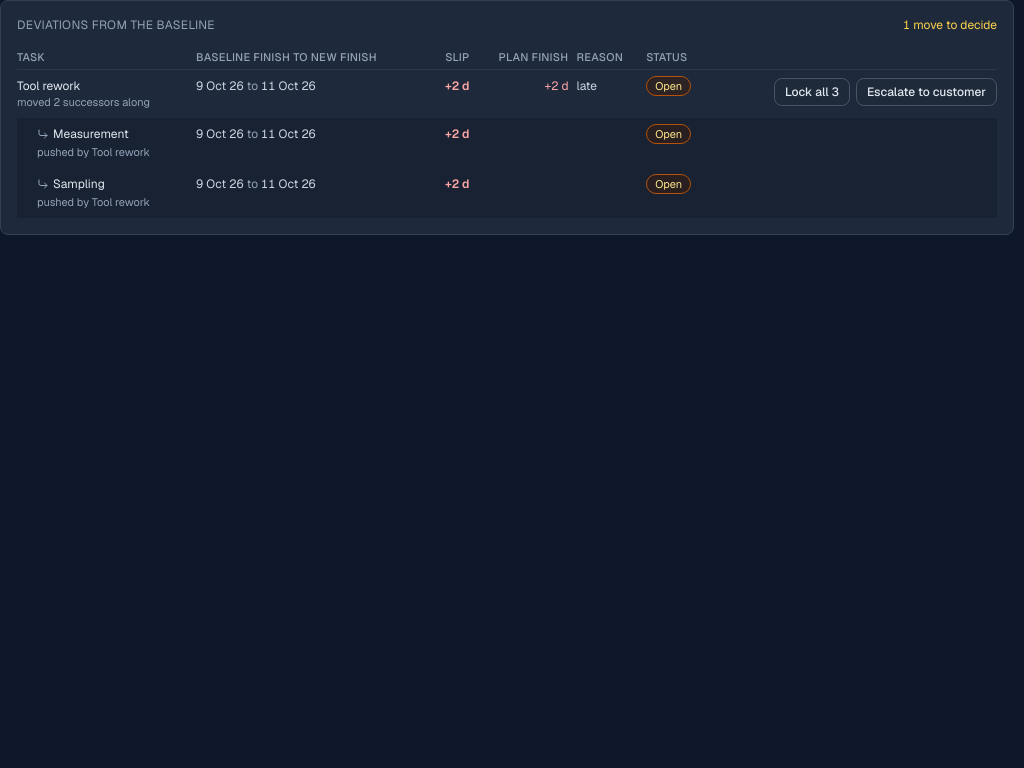
Test case: DeviationsPanel grouped by cause (G18) › escalating the move locks what it pushed with a note, and escalates once
The image size is (1024, 768).
Click the button with test id "deviation-escalate-20" at (926, 92), box left=856, top=78, right=997, bottom=106
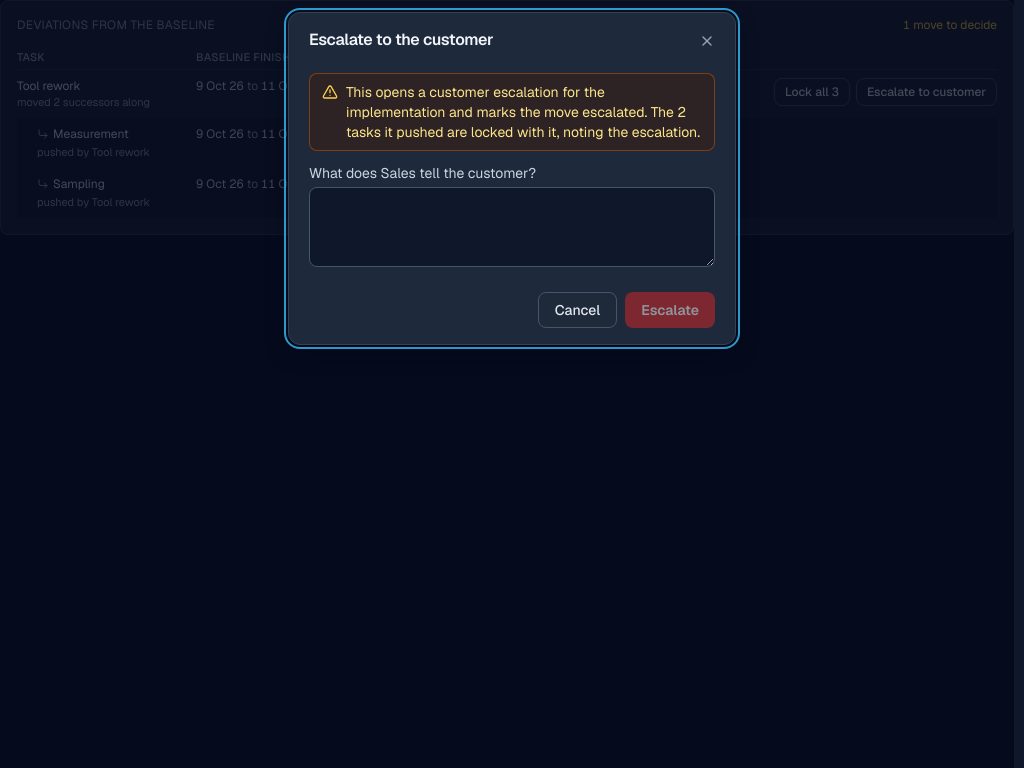
Type "SOP moves a week" into the text box at (512, 227), box left=309, top=187, right=715, bottom=267
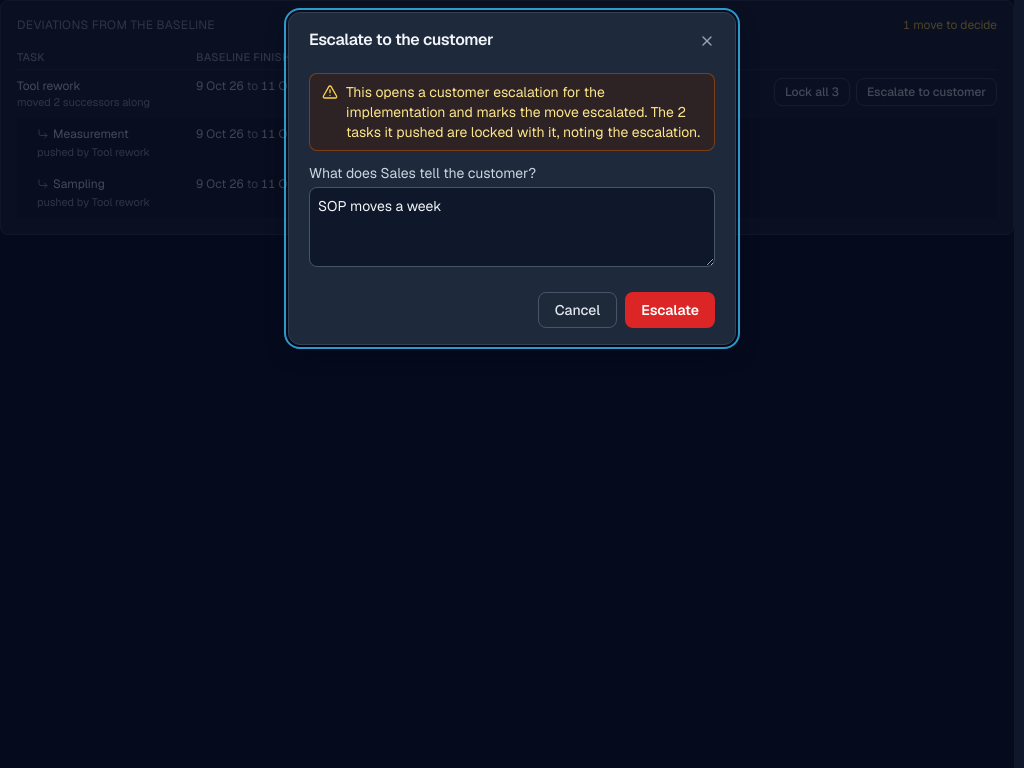
Click the button "Escalate" at (670, 310), box left=625, top=292, right=715, bottom=328
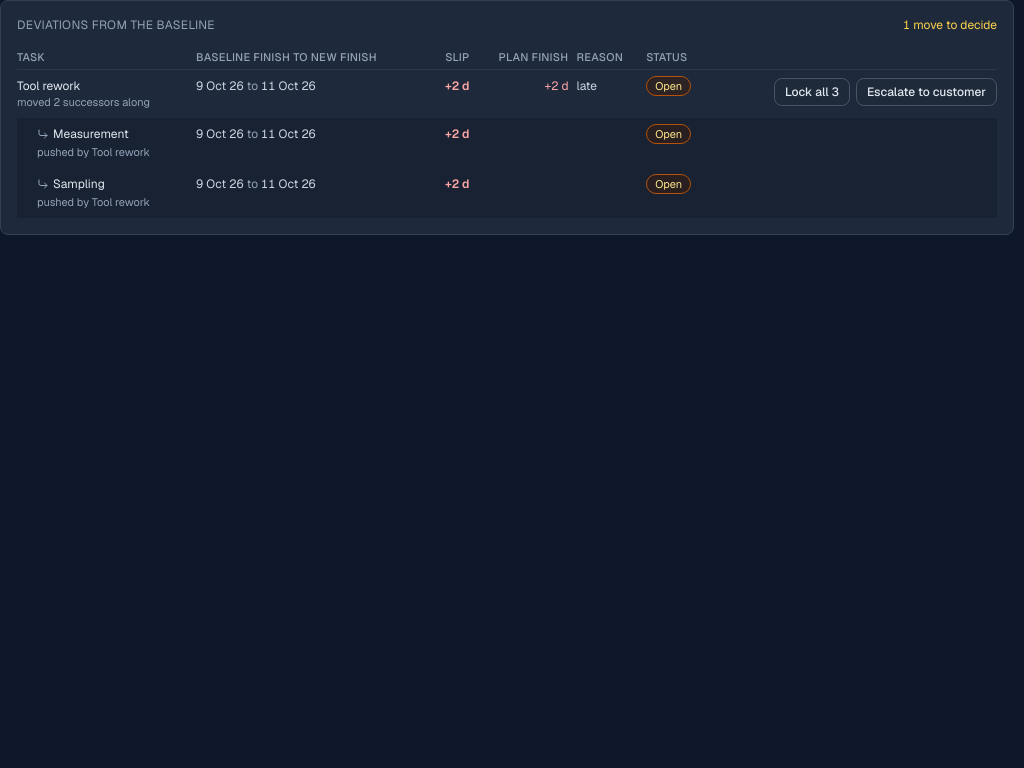
Expected: the dialog is gone
